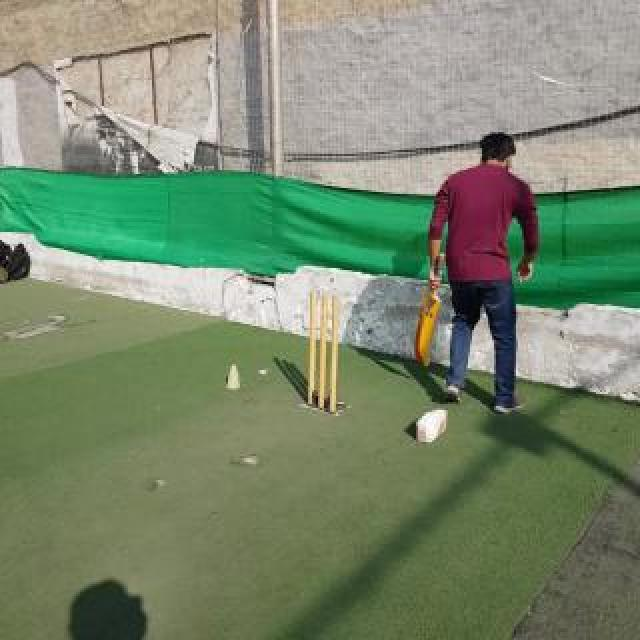bat: (416, 254, 444, 368)
